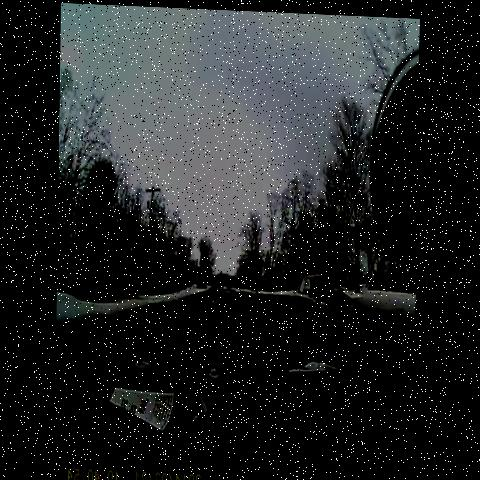pothole: (260, 312, 306, 358), (214, 323, 247, 368)
